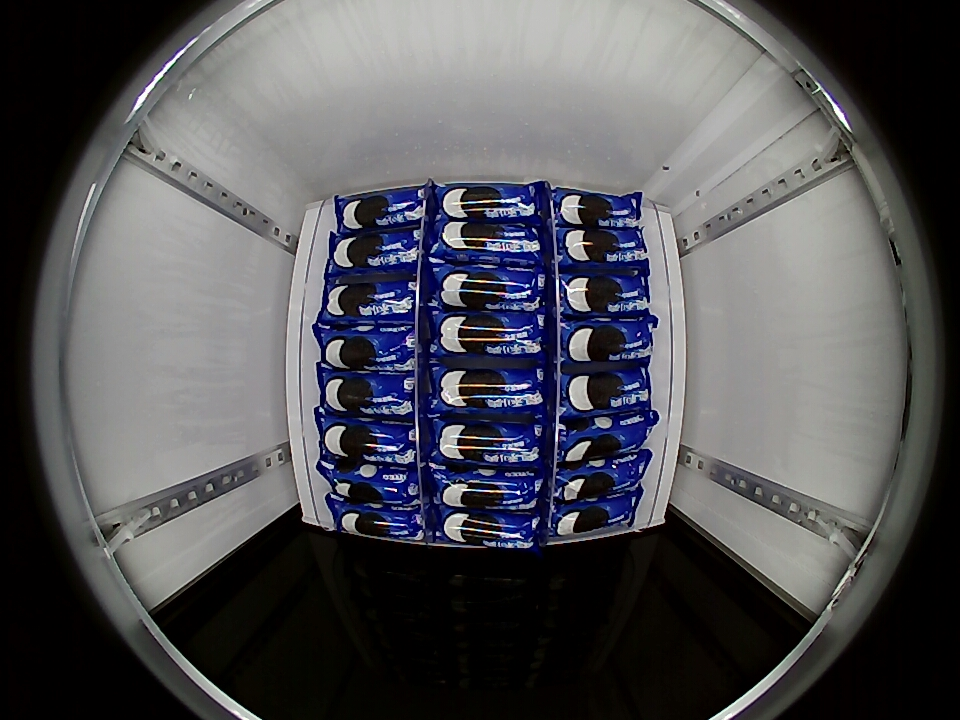aoliao: (427, 360, 548, 421), (430, 306, 548, 362), (429, 219, 544, 271), (434, 260, 546, 313), (431, 417, 546, 468), (431, 461, 545, 511), (433, 180, 546, 230), (317, 363, 416, 419), (545, 459, 655, 509), (559, 311, 656, 367), (328, 227, 424, 283), (332, 181, 430, 235), (551, 371, 656, 421), (436, 502, 542, 551), (319, 414, 417, 465), (322, 280, 422, 328), (324, 454, 421, 503), (558, 264, 651, 315), (330, 495, 427, 542), (550, 187, 644, 234), (315, 330, 415, 372), (556, 226, 649, 270), (549, 503, 646, 544), (561, 413, 658, 451)
